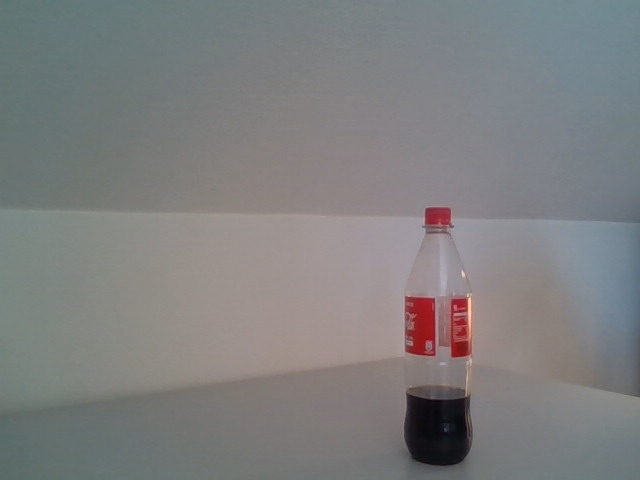bottle: (403, 207, 474, 468)
